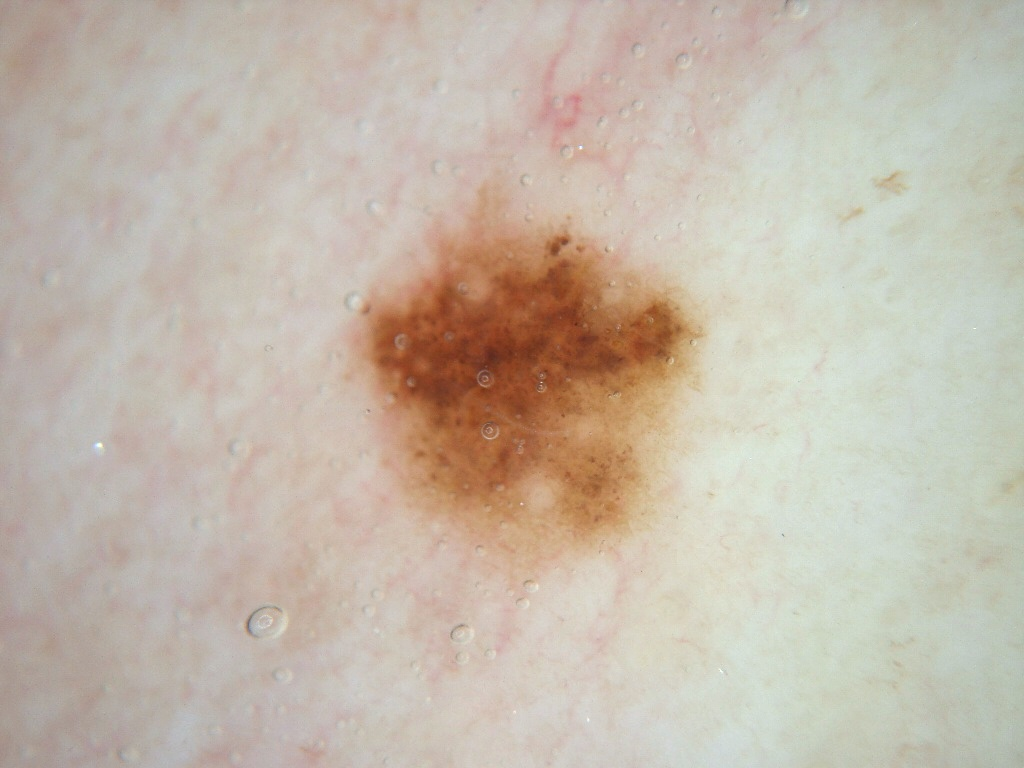Detected Lesion: (342, 192, 708, 561)
